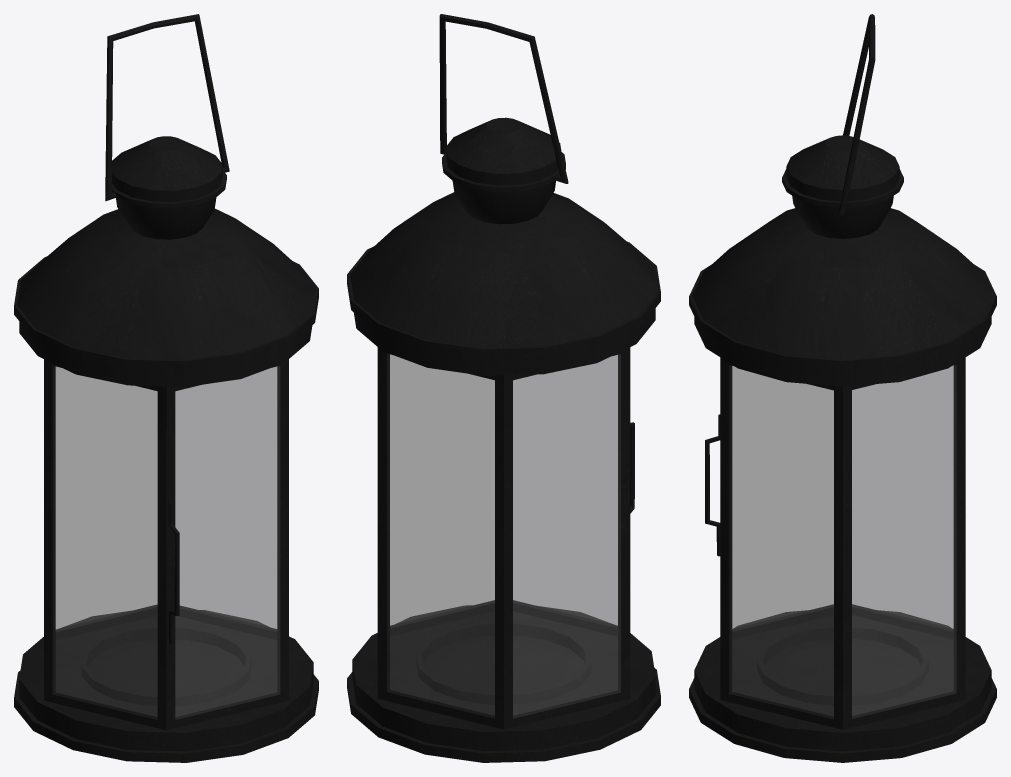
The model's file is Latern.FBX.
3 renders of one model, left to right at view 1: azimuth 30°, elevation 25°; view 2: azimuth 150°, elevation 25°; view 3: azimuth 270°, elevation 25°, orthographic. The views are drawn at different scales.
Parts seen in each view (by area): view 1: latern; view 2: latern; view 3: latern.
Boxes of the visible parts, <box> form: latern: <box>14,14,318,762</box>; latern: <box>347,14,660,762</box>; latern: <box>689,14,996,762</box>.
Bounding box in the file's own units: 132 × 315 × 132.
Materials: 2 (1 with a texture image).
